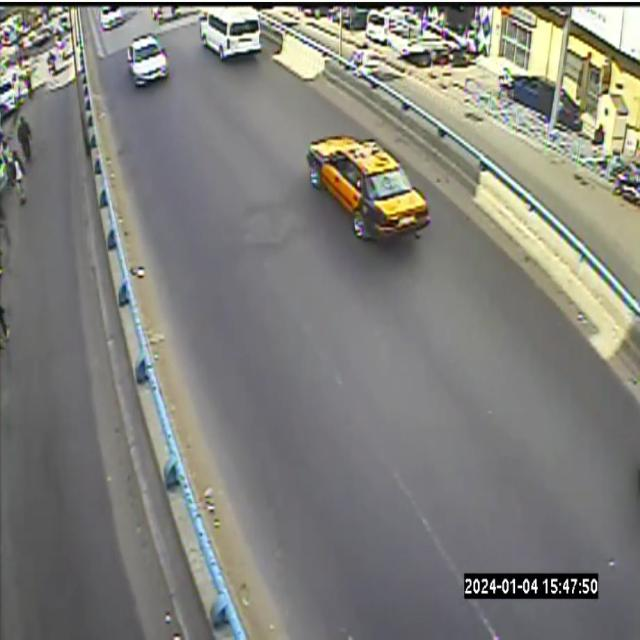car: (306, 131, 431, 247), (200, 7, 262, 63), (99, 6, 125, 31)
